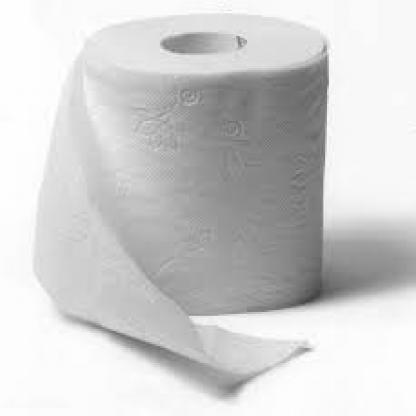tissue: (35, 9, 370, 407)
